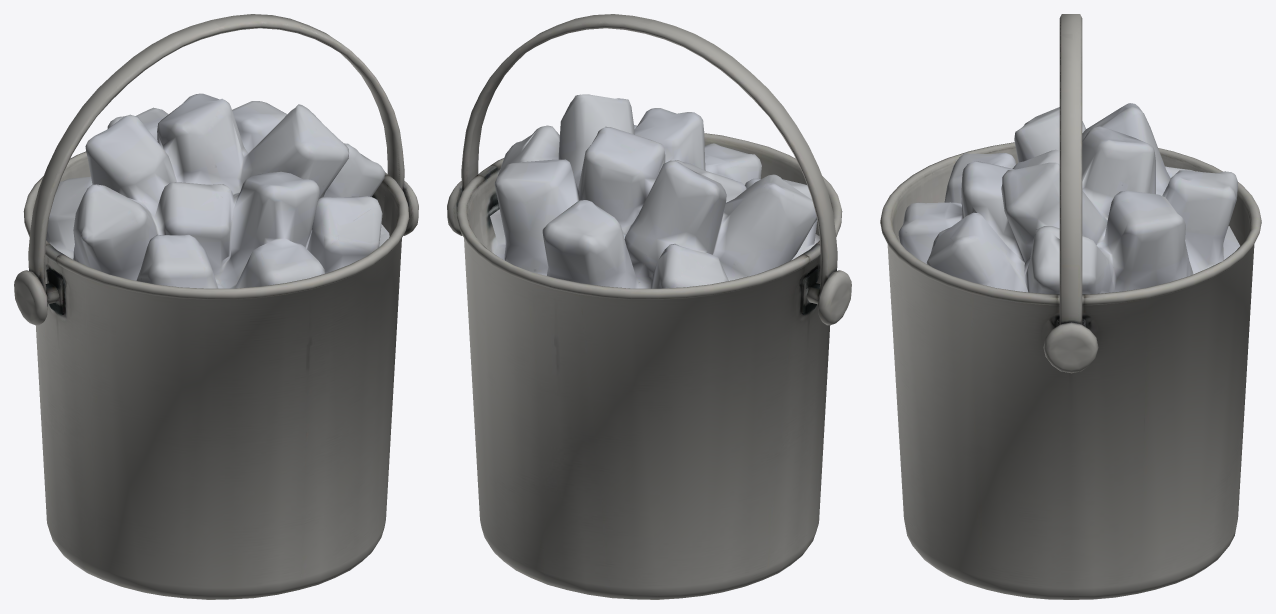
Rendered from selected.glb.
3 renders of one model, left to right at view 1: azimuth 30°, elevation 25°; view 2: azimuth 150°, elevation 25°; view 3: azimuth 270°, elevation 25°, orthographic.
Visible parts, largest first — view 1: tripo_node_3eb50adf-b08e-4df3-b785-5a7363995760; view 2: tripo_node_3eb50adf-b08e-4df3-b785-5a7363995760; view 3: tripo_node_3eb50adf-b08e-4df3-b785-5a7363995760.
Boxes of the visible parts, x1=… form: tripo_node_3eb50adf-b08e-4df3-b785-5a7363995760: x1=14, y1=14, x2=418, y2=599; tripo_node_3eb50adf-b08e-4df3-b785-5a7363995760: x1=447, y1=14, x2=851, y2=599; tripo_node_3eb50adf-b08e-4df3-b785-5a7363995760: x1=880, y1=14, x2=1261, y2=599.
Bounding box in the file's own units: 0.7871 × 0.998 × 0.6895.
Materials: 1 (1 with a texture image).
